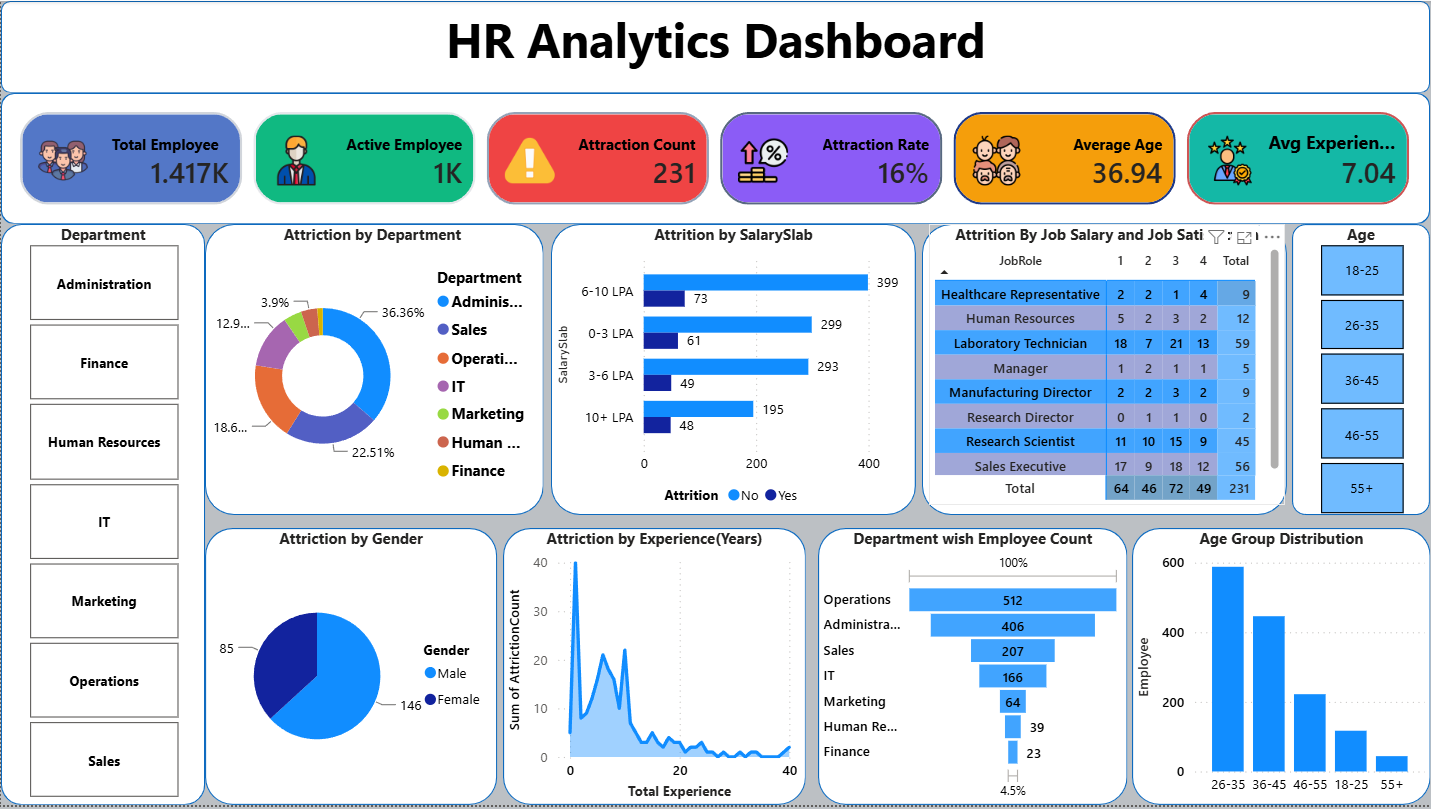

The page's visual inventory and layout, read from the dashboard file:
{"tool":"powerbi","page":{"name":"Page 1","canvas":[1280,720],"ordinal":0},"visuals":[{"type":"shape","box":[0,0,1279.7,82.4],"z":0},{"type":"shape","box":[0,82.4,1279.7,117.3],"z":1000},{"type":"shape","box":[1012.5,471.7,267.5,248],"z":2000},{"type":"shape","box":[731.4,471.7,277.2,248],"z":3000},{"type":"shape","box":[449.4,471.7,271.4,248],"z":4000},{"type":"shape","box":[182.9,471.7,261.6,248],"z":5000},{"type":"shape","box":[0,199.4,182.9,520.4],"z":6000},{"type":"shape","box":[1156.5,199.4,123.5,260.7],"z":7000},{"type":"shape","box":[824.8,199.4,326.8,260.7],"z":8000},{"type":"shape","box":[492.2,199.4,326.8,260.7],"z":9000},{"type":"shape","box":[182.9,199.4,303.5,260.7],"z":10000},{"type":"textbox","box":[0,0,1280,82.7],"z":11000},{"type":"cardVisual","fields":{"Data":["CountNonNull(HR_Analytics-4.EmpID)","Sum(HR_Analytics-4.EmployeeCount)","Sum(HR_Analytics-4.AttrictionCount)","HR_Analytics-4.Attrition Rate %","Avg(HR_Analytics-4.Age)","Avg(HR_Analytics-4.YearsatCompany)"]},"box":[0,82.4,1279.7,117.3],"z":12000},{"type":"donutChart","title":"Attriction by Department","fields":{"Y":["Sum(HR_Analytics-4.AttrictionCount)"],"Category":["HR_Analytics-4.Department"]},"box":[181,199.4,303.5,260],"z":13000},{"type":"clusteredBarChart","title":"Attrition by SalarySlab ","fields":{"Category":["HR_Analytics-4.SalarySlab"],"Y":["CountNonNull(HR_Analytics-4.EmpID)"],"Series":["HR_Analytics-4.Attrition"]},"box":[492.2,199.4,326.8,260.7],"z":14000},{"type":"pivotTable","title":"Attrition By Job Salary and Job Satisfaction","fields":{"Rows":["HR_Analytics-4.JobRole"],"Values":["Sum(HR_Analytics-4.AttrictionCount)"],"Columns":["HR_Analytics-4.JobSatisfaction"]},"box":[831,199.7,318.8,251.6],"z":15000},{"type":"columnChart","title":"Age Group Distribution","fields":{"Category":["HR_Analytics-4.AgeGroup"],"Y":["Sum(HR_Analytics-4.EmployeeCount)"]},"box":[1012.5,471.7,267.5,248],"z":16000},{"type":"pieChart","title":" Attriction by Gender","fields":{"Category":["HR_Analytics-4.Gender"],"Y":["Sum(HR_Analytics-4.AttrictionCount)"]},"box":[182.9,471.7,261.6,248],"z":17000},{"type":"areaChart","title":"Attriction by Experience(Years)","fields":{"Category":["HR_Analytics-4.TotalExperience(Years)"],"Y2":["Sum(HR_Analytics-4.AttrictionCount)"]},"box":[449.4,471.7,271.4,248],"z":18000},{"type":"funnel","title":"Department wish Employee Count","fields":{"Y":["CountNonNull(HR_Analytics-4.EmpID)"],"Category":["HR_Analytics-4.Department"]},"box":[731.4,471.7,277.2,248],"z":19000},{"type":"slicer","title":"Department","fields":{"Values":["HR_Analytics-4.Department"]},"box":[0,199.4,182.9,520.4],"z":20000},{"type":"slicer","title":"Age","fields":{"Values":["HR_Analytics-4.AgeGroup"]},"box":[1156.5,199.4,123.5,260.7],"z":21000}]}

Visuals, with their boxes in screenshot pixels (x1, y1, x2, y2), scaled from the page's 1280x720 canvas onto the 1431x809 screenshot:
shape: Rect(0, 0, 1430, 93)
shape: Rect(0, 93, 1430, 224)
shape: Rect(1132, 530, 1430, 808)
shape: Rect(818, 530, 1128, 808)
shape: Rect(502, 530, 806, 808)
shape: Rect(204, 530, 497, 808)
shape: Rect(0, 224, 204, 808)
shape: Rect(1293, 224, 1430, 517)
shape: Rect(922, 224, 1287, 517)
shape: Rect(550, 224, 916, 517)
shape: Rect(204, 224, 544, 517)
textbox: Rect(0, 0, 1430, 93)
cardVisual - CountNonNull(HR_Analytics-4.EmpID) x Sum(HR_Analytics-4.EmployeeCount): Rect(0, 93, 1430, 224)
"Attriction by Department" donutChart: Rect(202, 224, 542, 516)
"Attrition by SalarySlab " clusteredBarChart: Rect(550, 224, 916, 517)
"Attrition By Job Salary and Job Satisfaction" pivotTable: Rect(929, 224, 1285, 507)
"Age Group Distribution" columnChart: Rect(1132, 530, 1430, 808)
" Attriction by Gender" pieChart: Rect(204, 530, 497, 808)
"Attriction by Experience(Years)" areaChart: Rect(502, 530, 806, 808)
"Department wish Employee Count" funnel: Rect(818, 530, 1128, 808)
"Department" slicer: Rect(0, 224, 204, 808)
"Age" slicer: Rect(1293, 224, 1430, 517)
